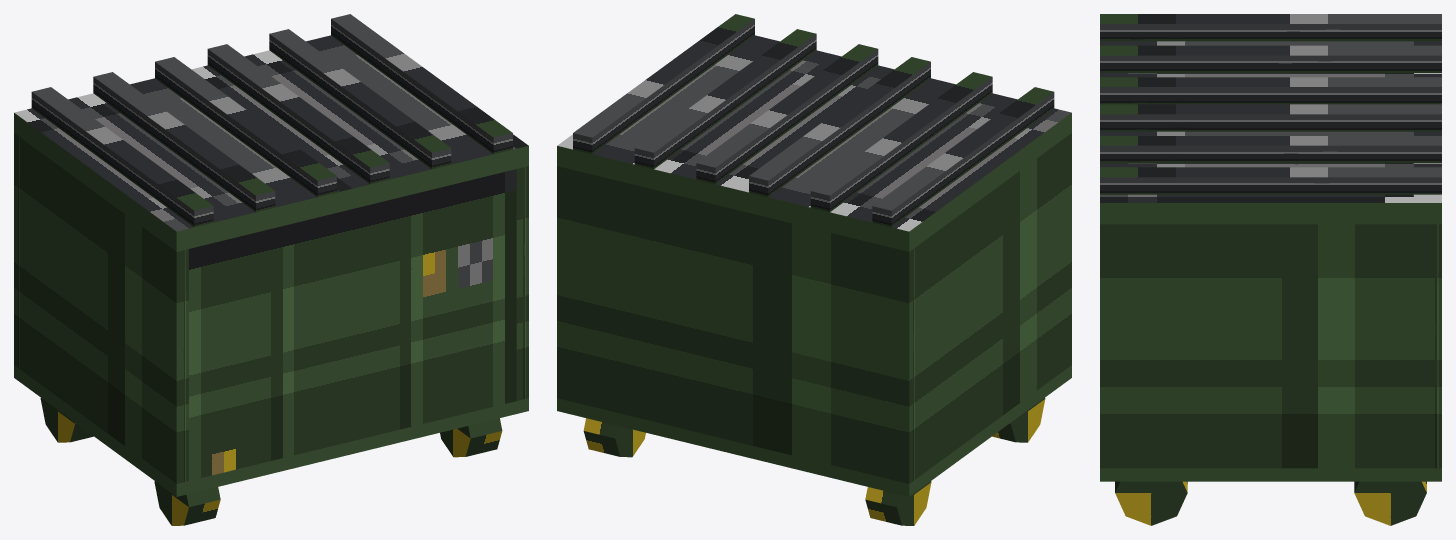
The model's file is trash_cart.glb.
3 views of the same model, side by side, from view 1: azimuth 30°, elevation 25°; view 2: azimuth 150°, elevation 25°; view 3: azimuth 270°, elevation 25° (orthographic). The views are drawn at different scales.
Visible parts, largest first — view 1: trash_cart_Body, trash_cart; view 2: trash_cart_Body, trash_cart; view 3: trash_cart_Body, trash_cart.
Part boxes in pixels (<box>): trash_cart_Body: <box>14,133,528,525</box>; trash_cart: <box>14,14,528,251</box>; trash_cart_Body: <box>557,133,1071,525</box>; trash_cart: <box>557,14,1071,251</box>; trash_cart_Body: <box>1100,224,1441,525</box>; trash_cart: <box>1100,14,1441,224</box>.
Size of the model in its own units: 1 by 0.905 by 0.8.
2 materials, 2 textured.
